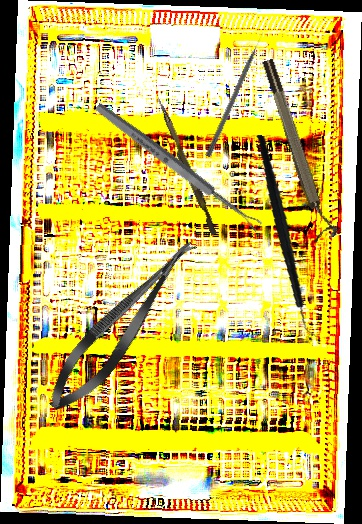Chopper: (232, 134, 345, 338)
Fixation Ring: (259, 55, 339, 243)
Micro Scissor: (36, 228, 209, 422)
Pusher: (151, 96, 221, 236), (205, 30, 267, 159)
Surgical Spoon: (93, 100, 263, 234)
